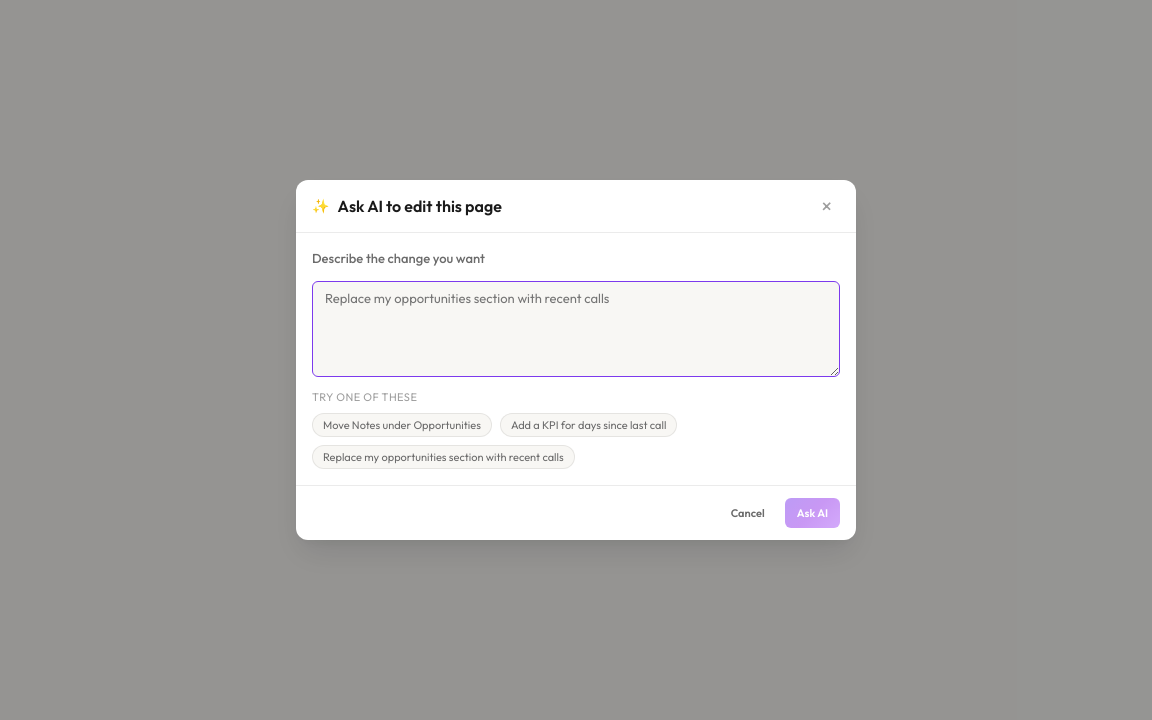
Test: AiPromptModal › clicking an example pill fills the textarea
Click the button with test id "ai-prompt-example-move-notes-under-opportunities". click: coordinates (402, 425)
box: [312, 413, 492, 437]
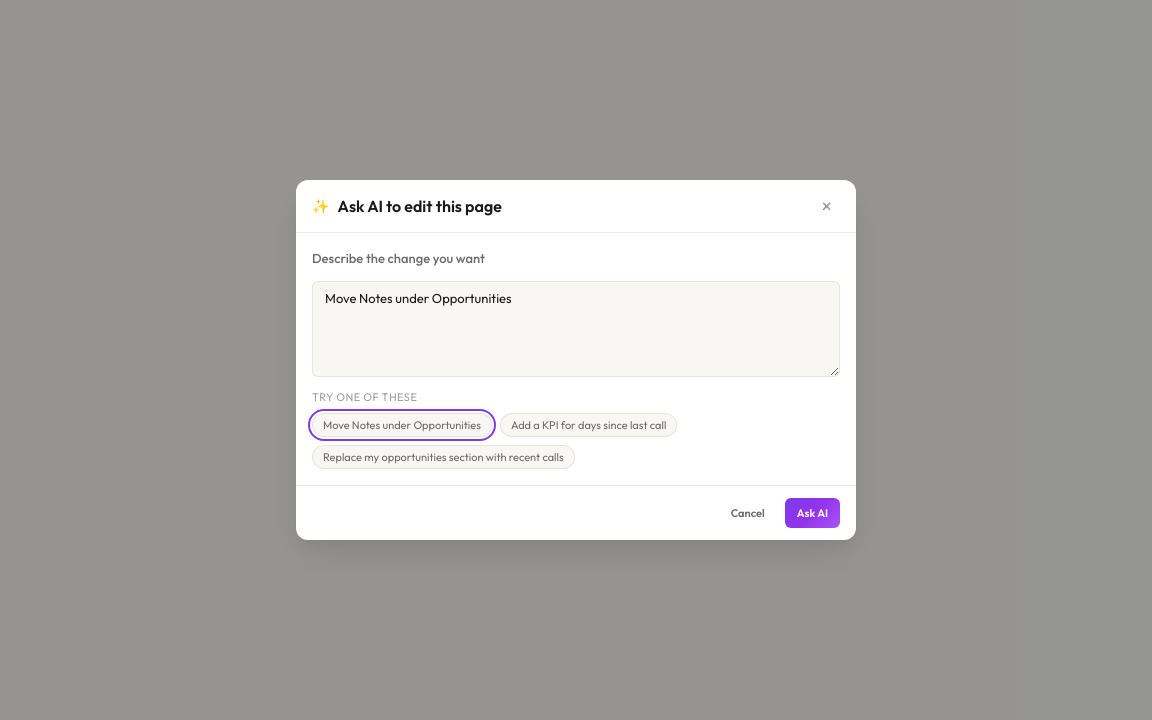
Expected: the text box with test id "ai-prompt-textarea" holds "Move Notes under Opportunities", [312, 280, 840, 376]
